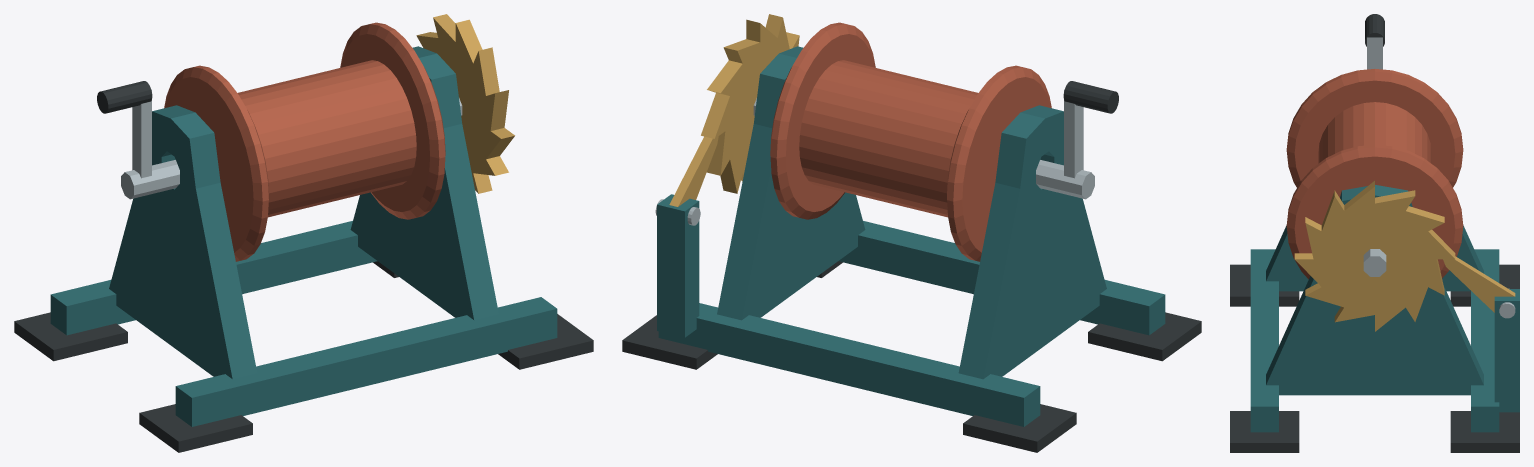
3 views of the same model, side by side, from view 1: azimuth 30°, elevation 25°; view 2: azimuth 150°, elevation 25°; view 3: azimuth 270°, elevation 25° (orthographic). The views are drawn at different scales.
Visible parts, largest first — view 1: Drum_IntegralBareDoubleFlange, Frame_LeftTrueBoredPedestal, Base_FrontRail, Frame_RightTrueBoredPedestal, Base_BackRail, Ratchet_ContinuousAsymmetric12ToothWheel, Base_BackLeftFoot, Base_FrontLeftFoot, Base_FrontRightFoot, Axle_ContinuousOctagonalShaft, Crank_OffsetFlatArm, Crank_AxialGraphiteHandgrip; view 2: Drum_IntegralBareDoubleFlange, Frame_LeftTrueBoredPedestal, Base_BackRail, Frame_RightTrueBoredPedestal, Base_FrontRail, Ratchet_ContinuousAsymmetric12ToothWheel, Pawl_IndependentRootPedestal, Base_FrontLeftFoot, Base_BackLeftFoot, Base_BackRightFoot, Axle_ContinuousOctagonalShaft, Crank_OffsetFlatArm (+2 smaller); view 3: Drum_IntegralBareDoubleFlange, Frame_RightTrueBoredPedestal, Ratchet_ContinuousAsymmetric12ToothWheel, Base_FrontRail, Base_BackRail, Pawl_IndependentRootPedestal, Base_FrontRightFoot, Base_BackRightFoot, Frame_LeftTrueBoredPedestal, Pawl_FixedThickStopArm, Base_FrontLeftFoot, Base_BackLeftFoot (+3 smaller).
Boxes of the visible parts, <box> form: Drum_IntegralBareDoubleFlange: <box>164,22,445,261</box>; Frame_LeftTrueBoredPedestal: <box>109,105,257,379</box>; Base_FrontRail: <box>175,297,557,426</box>; Frame_RightTrueBoredPedestal: <box>350,46,498,320</box>; Base_BackRail: <box>50,221,377,335</box>; Ratchet_ContinuousAsymmetric12ToothWheel: <box>416,14,514,193</box>; Base_BackLeftFoot: <box>14,312,127,361</box>; Base_FrontLeftFoot: <box>139,404,252,452</box>; Base_FrontRightFoot: <box>498,314,593,369</box>; Axle_ContinuousOctagonalShaft: <box>121,98,462,199</box>; Crank_OffsetFlatArm: <box>132,90,151,178</box>; Crank_AxialGraphiteHandgrip: <box>97,81,152,113</box>; Drum_IntegralBareDoubleFlange: <box>770,22,1051,261</box>; Frame_LeftTrueBoredPedestal: <box>958,105,1106,379</box>; Base_BackRail: <box>658,303,1040,426</box>; Frame_RightTrueBoredPedestal: <box>717,46,865,320</box>; Base_FrontRail: <box>838,221,1165,335</box>; Ratchet_ContinuousAsymmetric12ToothWheel: <box>701,14,799,193</box>; Pawl_IndependentRootPedestal: <box>657,194,699,337</box>; Base_FrontLeftFoot: <box>1088,312,1201,361</box>; Base_BackLeftFoot: <box>963,404,1076,452</box>; Base_BackRightFoot: <box>622,315,717,369</box>; Axle_ContinuousOctagonalShaft: <box>753,98,1094,199</box>; Crank_OffsetFlatArm: <box>1064,90,1083,178</box>; Drum_IntegralBareDoubleFlange: <box>1286,69,1463,279</box>; Frame_RightTrueBoredPedestal: <box>1266,185,1483,395</box>; Ratchet_ContinuousAsymmetric12ToothWheel: <box>1294,181,1455,331</box>; Base_FrontRail: <box>1250,249,1278,432</box>; Base_BackRail: <box>1471,249,1499,432</box>; Pawl_IndependentRootPedestal: <box>1494,289,1519,412</box>; Base_FrontRightFoot: <box>1230,411,1299,452</box>; Base_BackRightFoot: <box>1450,411,1519,452</box>; Frame_LeftTrueBoredPedestal: <box>1266,225,1483,291</box>; Pawl_FixedThickStopArm: <box>1443,256,1515,312</box>; Base_FrontLeftFoot: <box>1230,264,1299,306</box>; Base_BackLeftFoot: <box>1450,264,1519,306</box>.
Bounding box in the file's own units: 1.34 × 0.9216 × 0.92.
